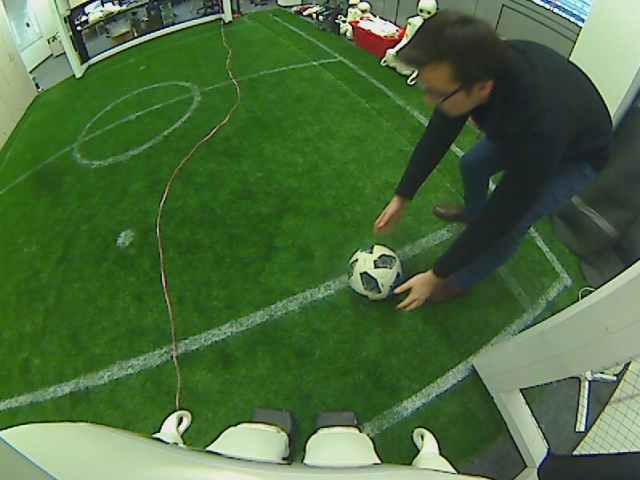ball: (346, 243, 402, 300)
